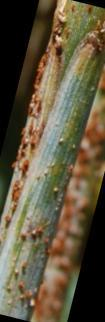Wheat: (4, 1, 86, 240)
